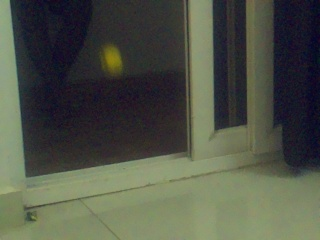ball: (99, 43, 123, 77)
